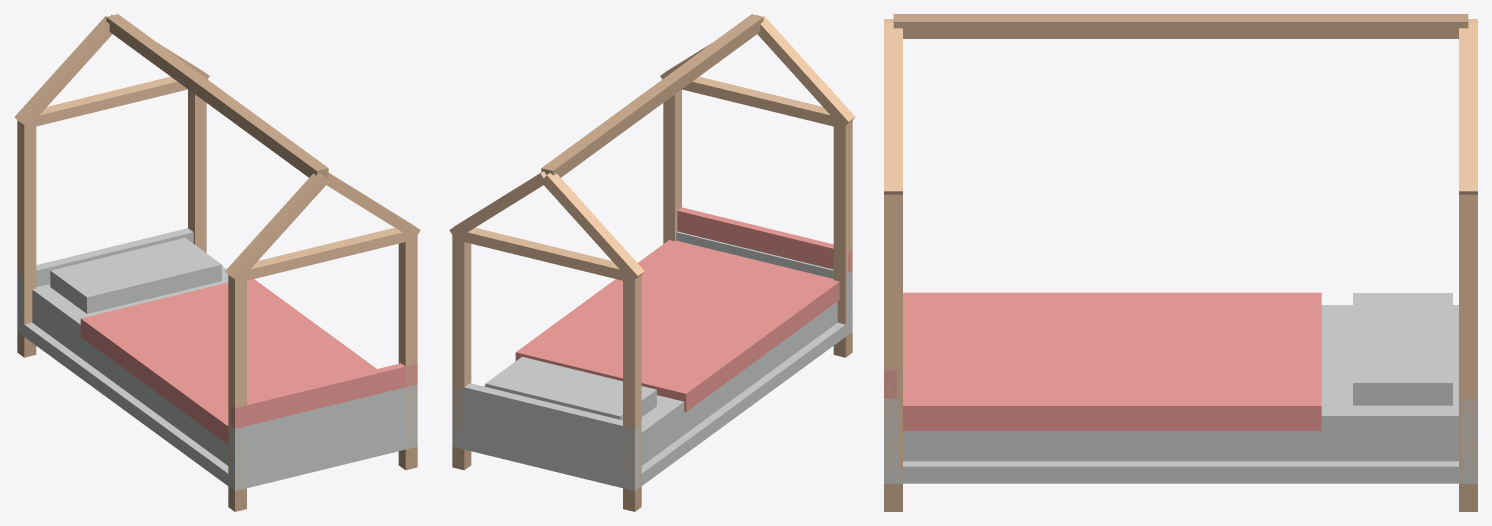
The model's file is kidsBedHouse.glb.
3 renders of one model, left to right at view 1: azimuth 30°, elevation 25°; view 2: azimuth 150°, elevation 25°; view 3: azimuth 270°, elevation 25°, orthographic. The views are drawn at different scales.
Visible parts, largest first — view 1: kidsBedHouse; view 2: kidsBedHouse; view 3: kidsBedHouse.
Part boxes in pixels (box(x1,y1,x2,y2)): kidsBedHouse: box(14, 14, 420, 511); kidsBedHouse: box(449, 14, 855, 511); kidsBedHouse: box(884, 14, 1477, 511).
Size of the model in its own units: 0.4759 by 0.765 by 0.95.
